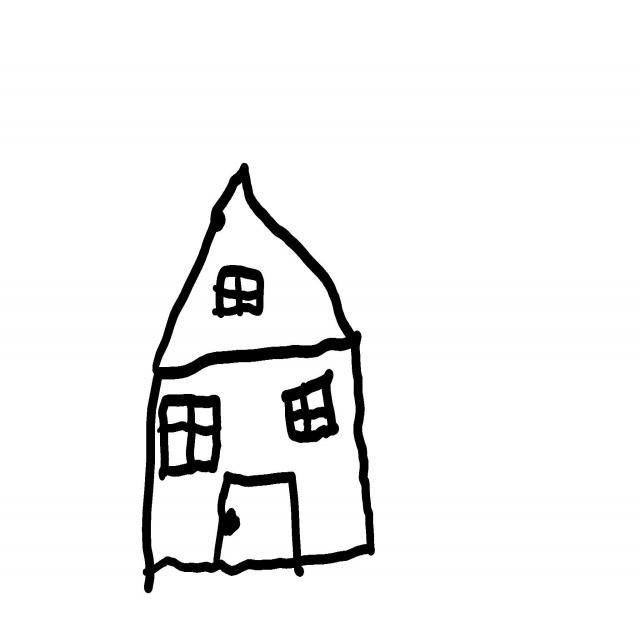door: (216, 474, 301, 566)
house: (142, 164, 375, 593)
roof: (151, 166, 361, 370)
wall: (145, 345, 371, 573)
window: (159, 395, 221, 481), (283, 370, 339, 443), (213, 266, 264, 318)
